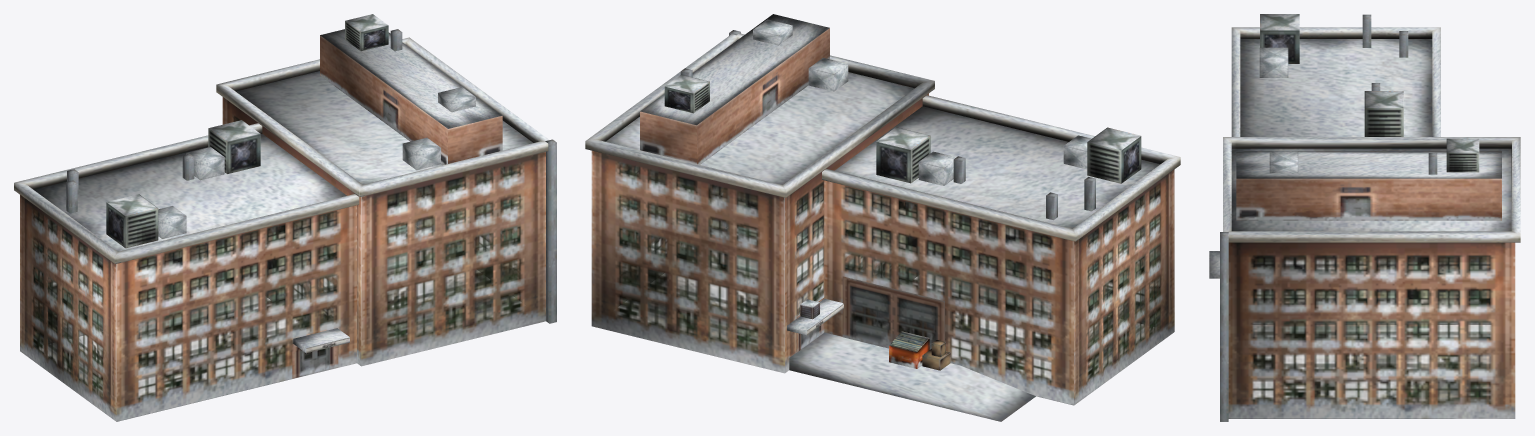
The model's file is Civilian - Civilian Building - Industrial Building 02 - Snow - CBIndWhs02_s.glb.
The picture shows the model from 3 angles, left to right: view 1: azimuth 30°, elevation 25°; view 2: azimuth 150°, elevation 25°; view 3: azimuth 270°, elevation 25°; orthographic projection. The views are drawn at different scales.
Visible parts, largest first — view 1: CBINDWHS02_S; view 2: CBINDWHS02_S; view 3: CBINDWHS02_S.
Boxes of the visible parts, box(x1,y1,x2,y2) form: CBINDWHS02_S: box(14, 14, 556, 421); CBINDWHS02_S: box(585, 14, 1180, 421); CBINDWHS02_S: box(1209, 14, 1520, 421).
Size of the model in its own units: 120 by 60.57 by 71.28.
Materials: 1 (1 with a texture image).
